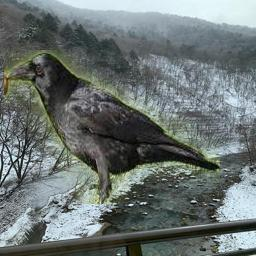Crow: (4, 50, 220, 204)
